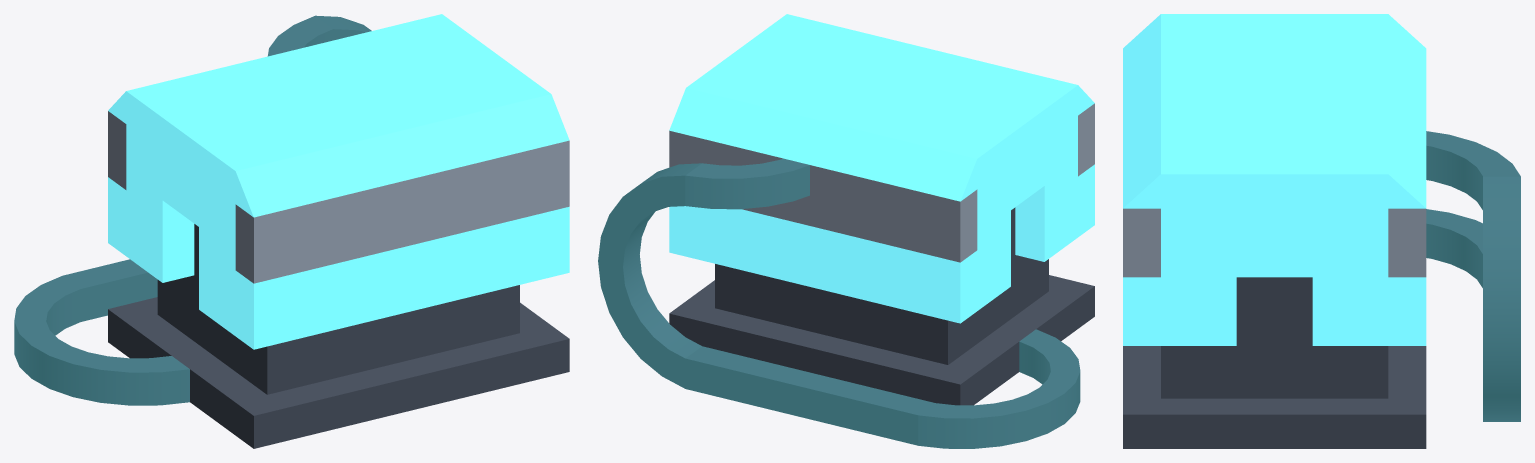
Rendered from machine_generator.glb.
3 renders of one model, left to right at view 1: azimuth 30°, elevation 25°; view 2: azimuth 150°, elevation 25°; view 3: azimuth 270°, elevation 25°, orthographic. The views are drawn at different scales.
Parts seen in each view (by area): view 1: machine_generator, cable; view 2: machine_generator, cable; view 3: machine_generator, cable.
Boxes of the visible parts, x1,y1,x2,y2 form: machine_generator: [108, 14, 569, 448]; cable: [14, 15, 371, 405]; machine_generator: [669, 14, 1094, 405]; cable: [598, 158, 1080, 448]; machine_generator: [1123, 14, 1426, 448]; cable: [1426, 131, 1520, 421].
Size of the model in its own units: 0.7 by 0.4 by 0.525.
